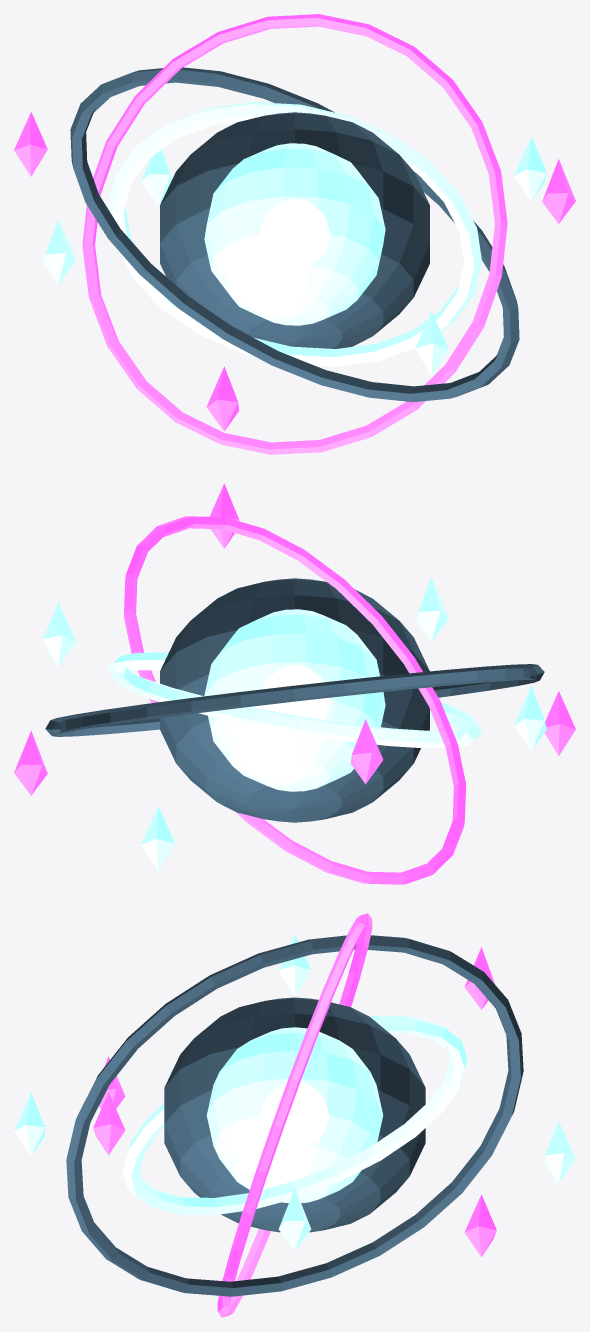
File: zeropoint_core.gltf
3 renders of one model, top to bottom at view 1: azimuth 30°, elevation 25°; view 2: azimuth 150°, elevation 25°; view 3: azimuth 270°, elevation 25°, orthographic. The views are drawn at different scales.
Parts seen in each view (by area): view 1: ZeroPointCore_root; view 2: ZeroPointCore_root; view 3: ZeroPointCore_root.
Boxes of the visible parts, x1=… form: ZeroPointCore_root: x1=14, y1=14, x2=575, y2=454; ZeroPointCore_root: x1=14, y1=483, x2=575, y2=884; ZeroPointCore_root: x1=14, y1=913, x2=575, y2=1317.
Bounding box in the file's own units: 5.22 × 3.84 × 5.22.
